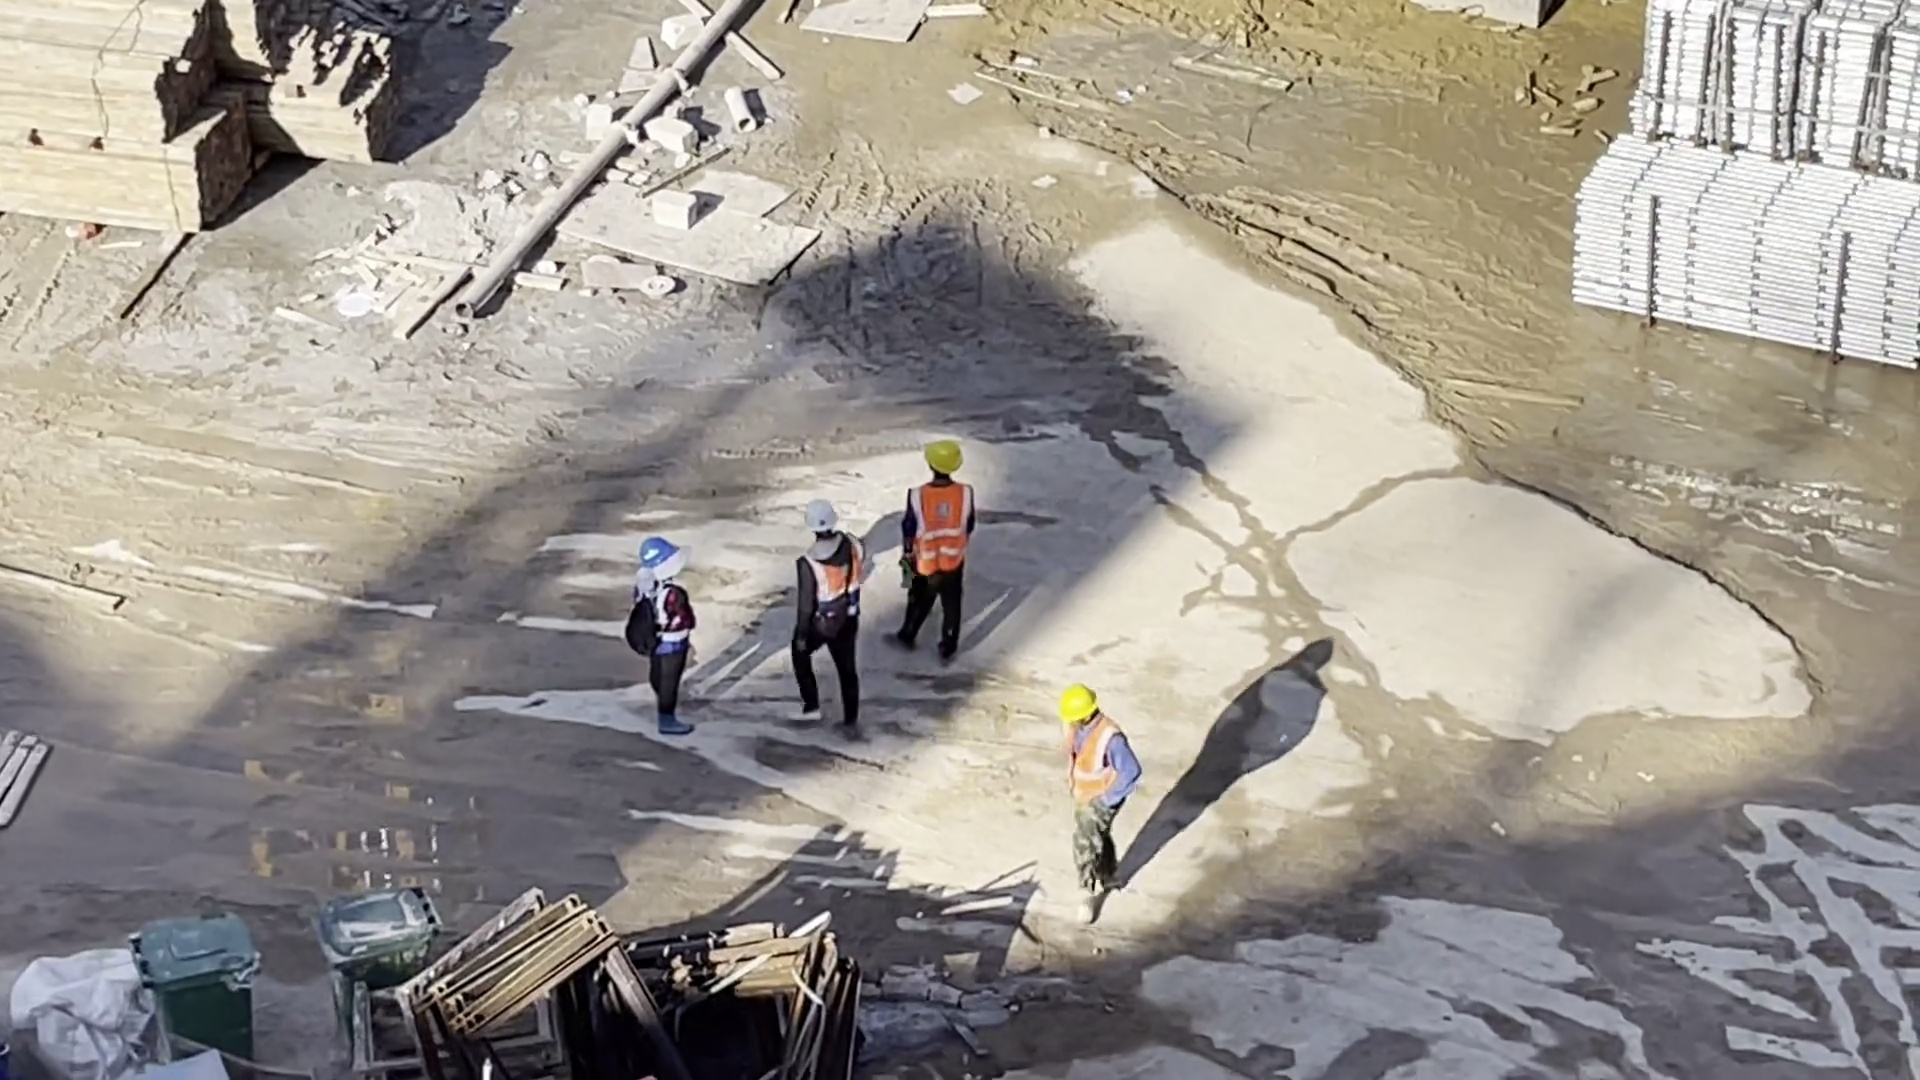helmet: (1056, 683, 1101, 724), (925, 443, 965, 476), (801, 500, 839, 531), (639, 538, 677, 565)
person: (1058, 681, 1129, 914), (793, 504, 865, 731), (899, 444, 970, 662), (631, 538, 697, 737)
vest: (905, 480, 971, 581), (1067, 719, 1121, 810), (642, 592, 690, 660), (815, 551, 859, 603)
